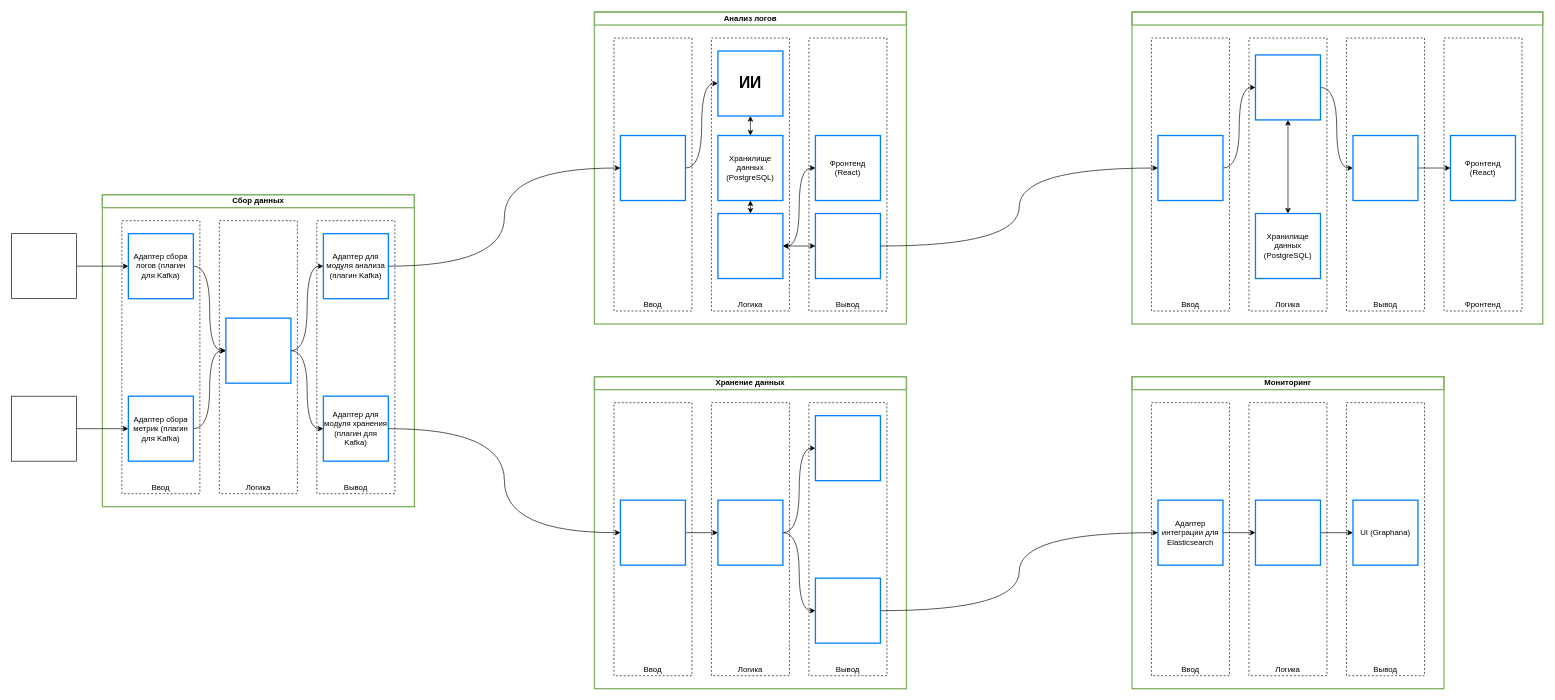
This 1555x700 diagram has some shape labels left out. The centre of each missing label's shape, as x and y in pixels:
"API (Python/FastAPI)" goes at (1190,168).
"API для мониторинга" goes at (847,610).
"API для потребителей (Python/FastAPI)" goes at (847,246).
"API для фронтетда (Python/FastAPI)" goes at (1385,168).
"UI (Kibana)" goes at (847,448).
"Адаптер модуля анализа логов" goes at (652,168).
"Адаптер сбора логов (плагин Elasticsearch)" goes at (652,532).
"База знаний по инцидентам" goes at (1337,18).
"Индексация логов (Elasticsearch)" goes at (750,532).
"Логи приложения" goes at (43,266).
"Маршрутизация передачи логов и метрик в другие модули (Kafka)" goes at (258,350).
"Метрики приложения" goes at (43,428).
"Мониторинг состояния систем (Python/FastAPI)" goes at (1287,532).
"Система управления базой знаний (Python/FastAPI)" goes at (1287,87).
"Система управления интеграциями с результатами работы ИИ (Python/FastAPI)" goes at (750,246).
